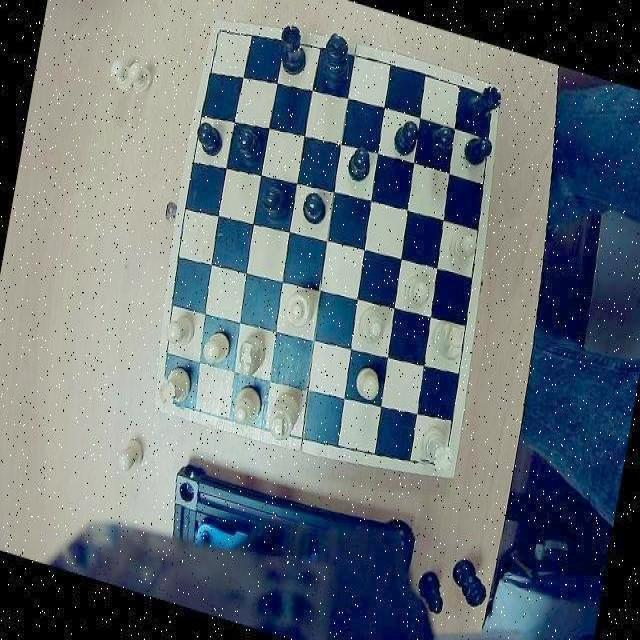chess-table-corners: (418, 438, 454, 478), (153, 377, 190, 415), (468, 80, 499, 114), (212, 19, 240, 52)
